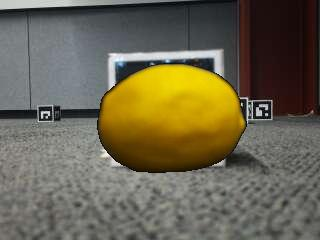lemon: (99, 64, 246, 173)
